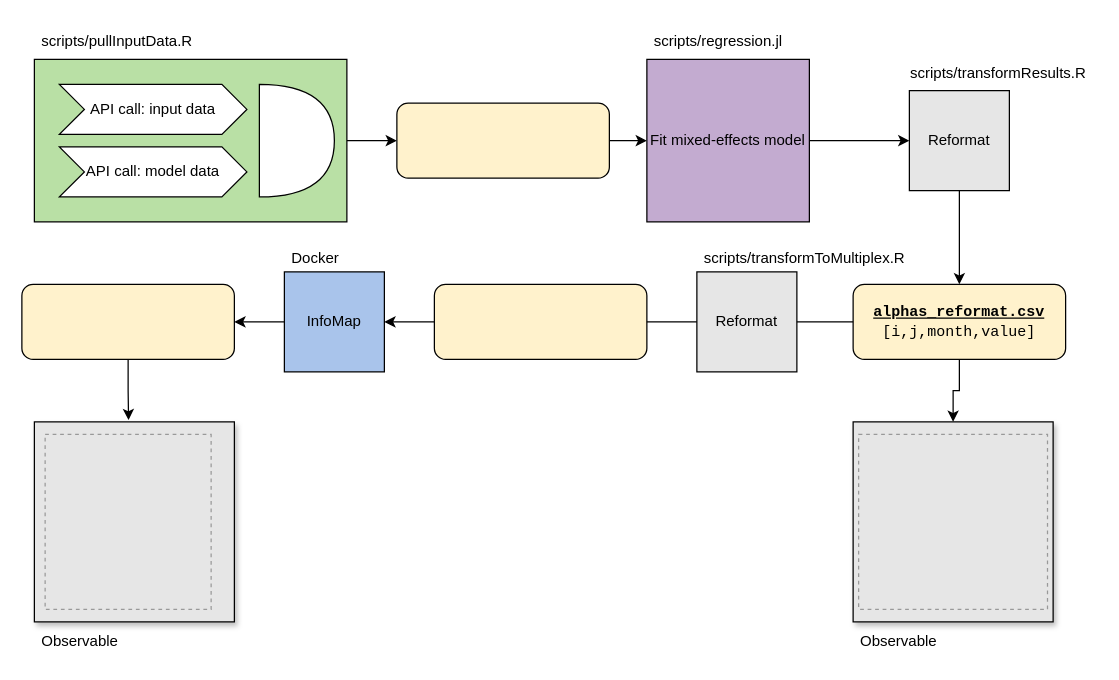
Some shapes in this 1119 by 680 pixel diagram are drawn without their labels. Grey dashed boxes stand in for pictures. Each missing label, with the centre of its shape:
"Join" belongs at point (296, 140).
"network-processed.csv [module,fips,month]" belongs at point (127, 321).
"network.net [vertices, edges, weight, etc...]" belongs at point (540, 321).
"results.csv [fips,date,cases,Rt,infections]" belongs at point (502, 140).
